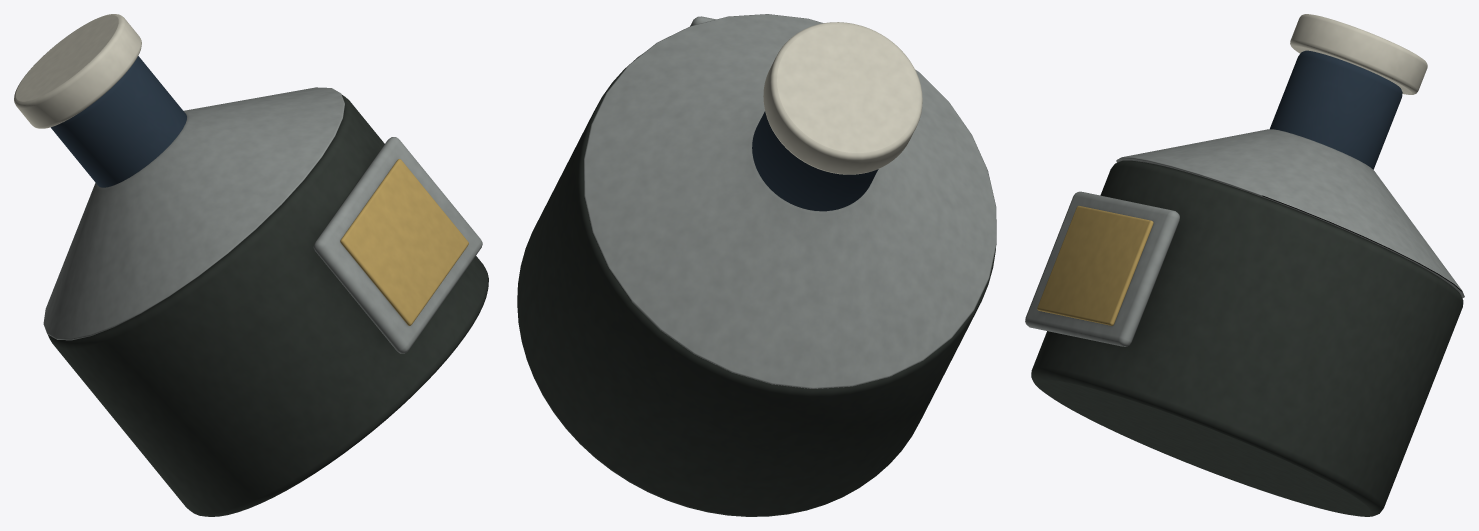
The picture shows the model from 3 angles, left to right: view 1: azimuth 30°, elevation 25°; view 2: azimuth 150°, elevation 25°; view 3: azimuth 270°, elevation 25°; orthographic projection. The views are drawn at different scales.
Visible parts, largest first — view 1: Closed sample vessel; view 2: Closed sample vessel; view 3: Closed sample vessel.
Part boxes in pixels (x1=…): Closed sample vessel: x1=14, y1=14, x2=488, y2=516; Closed sample vessel: x1=517, y1=14, x2=996, y2=516; Closed sample vessel: x1=1025, y1=14, x2=1464, y2=516.
Bounding box in the file's own units: 1.03 × 1.17 × 1.02.
Materials: 1 (1 with a texture image).
